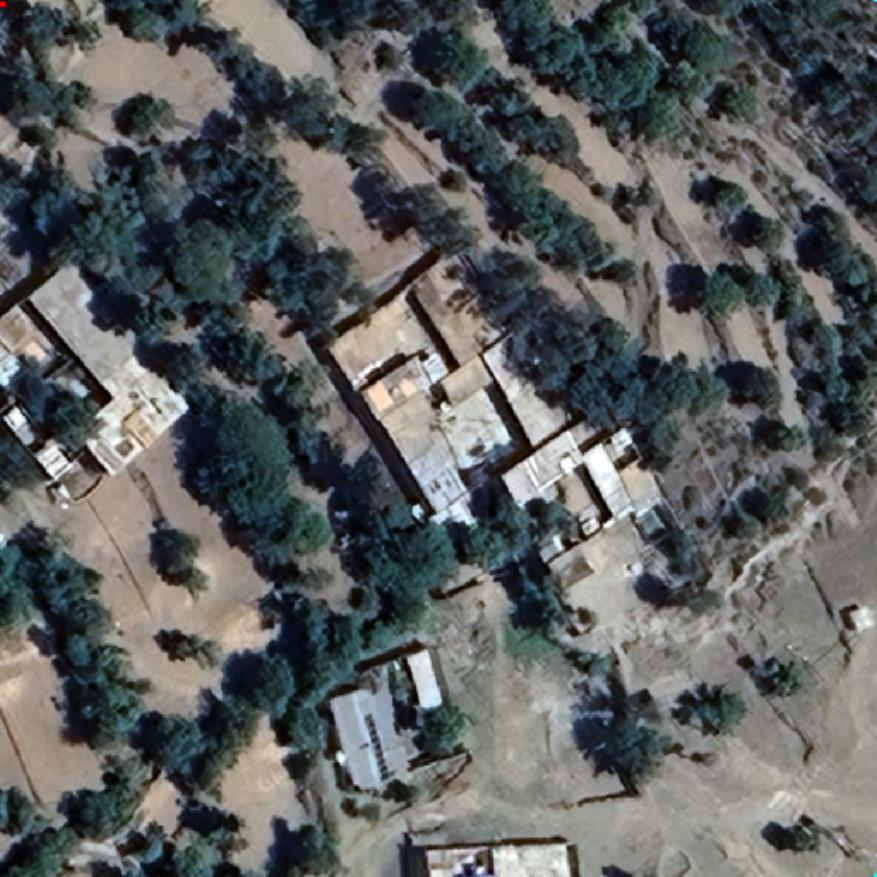Solarpanel: (362, 711, 392, 781)
